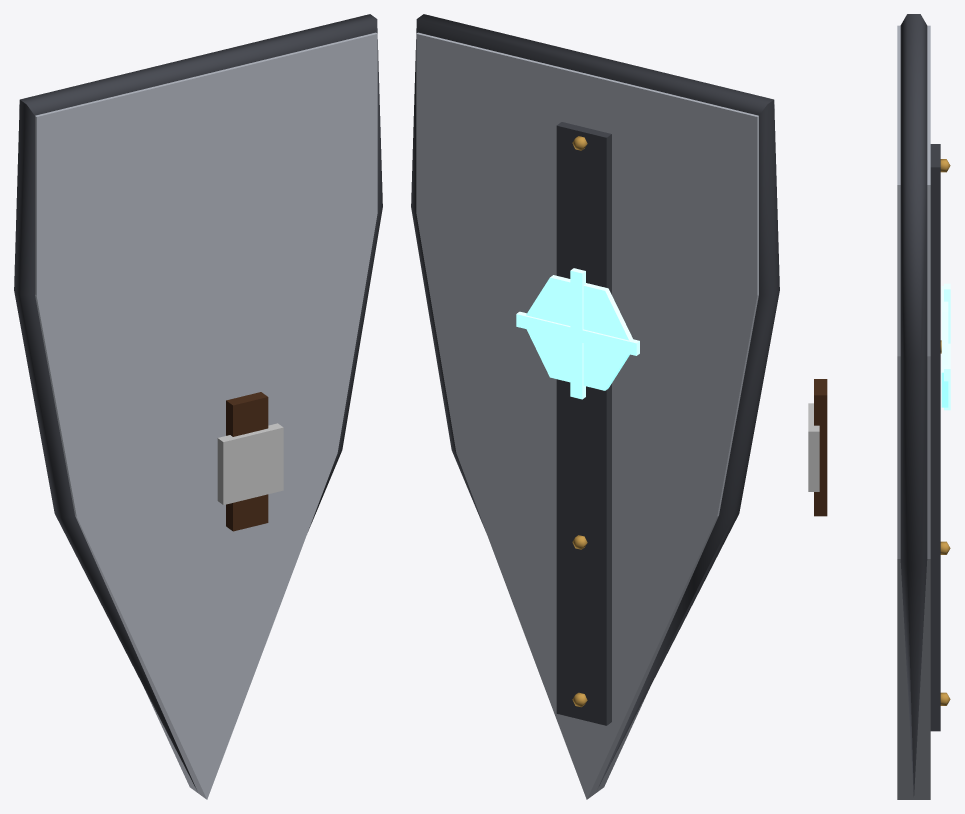
The model's file is shield_rune.glb.
3 views of the same model, side by side, from view 1: azimuth 30°, elevation 25°; view 2: azimuth 150°, elevation 25°; view 3: azimuth 270°, elevation 25° (orthographic). The views are drawn at different scales.
Parts seen in each view (by area): view 1: Shield_Rune_Steel, Shield_Rune_Darksteel, Shield_Rune_Trim, Shield_Rune_Leather; view 2: Shield_Rune_Steel, Shield_Rune_Darksteel, Shield_Rune_Accent; view 3: Shield_Rune_Darksteel, Shield_Rune_Steel, Shield_Rune_Leather, Shield_Rune_Accent, Shield_Rune_Trim, Shield_Rune_Brass.
Part boxes in pixels (x1=…): Shield_Rune_Steel: x1=19, y1=32, x2=377, y2=799; Shield_Rune_Darksteel: x1=14, y1=14, x2=382, y2=789; Shield_Rune_Trim: x1=217, y1=423, x2=283, y2=504; Shield_Rune_Leather: x1=226, y1=392, x2=268, y2=531; Shield_Rune_Steel: x1=416, y1=32, x2=774, y2=799; Shield_Rune_Darksteel: x1=411, y1=14, x2=779, y2=789; Shield_Rune_Accent: x1=516, y1=268, x2=639, y2=399; Shield_Rune_Darksteel: x1=900, y1=14, x2=940, y2=797; Shield_Rune_Steel: x1=897, y1=25, x2=930, y2=799; Shield_Rune_Leather: x1=814, y1=379, x2=827, y2=516; Shield_Rune_Accent: x1=941, y1=283, x2=950, y2=410; Shield_Rune_Trim: x1=808, y1=403, x2=819, y2=491; Shield_Rune_Brass: x1=940, y1=159, x2=950, y2=705.
Size of the model in its own units: 0.3607 by 0.6993 by 0.128.
